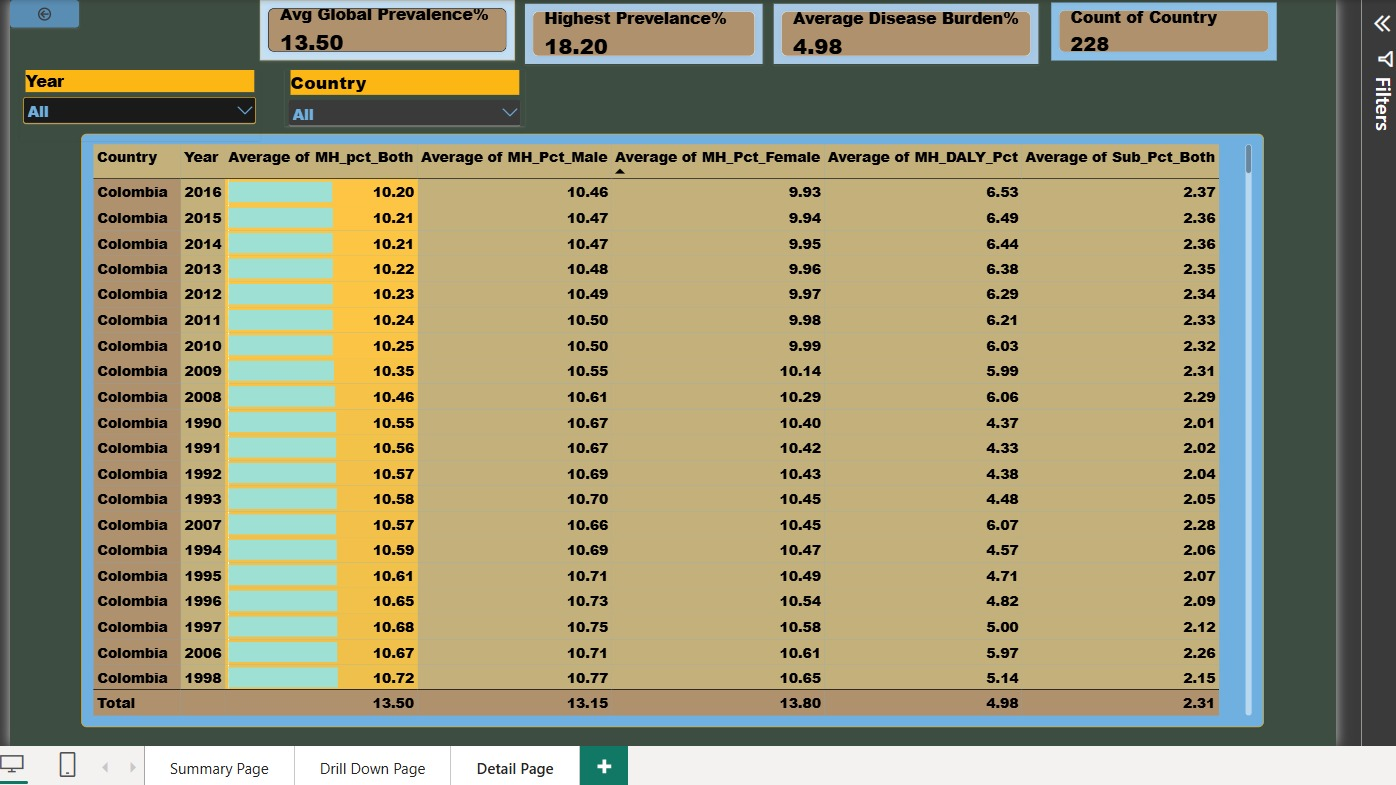

The dashboard page shown, as its layout file describes it:
{"tool":"powerbi","page":{"name":"Detail Page","canvas":[1920,1080],"ordinal":2},"visuals":[{"type":"tableEx","fields":{"Values":["mental_health_disorder_prevalen.Country","mental_health_disorder_prevalen.Year","Avg(mental_health_disorder_prevalen.MH_pct_Both)","Avg(mental_health_disorder_prevalen.MH_Pct_Male)","Avg(mental_health_disorder_prevalen.MH_Pct_Female)","Avg(mental_health_disorder_prevalen.MH_DALY_Pct)","Avg(mental_health_disorder_prevalen.Sub_Pct_Both)"]},"box":[103.2,193.6,1711.9,859.6],"z":0},{"type":"actionButton","box":[0,0,100,40],"z":1},{"type":"slicer","fields":{"Values":["mental_health_disorder_prevalen.Year"]},"box":[14.5,101.3,346.9,102],"z":2},{"type":"slicer","fields":{"Values":["mental_health_disorder_prevalen.Country"]},"box":[398.1,101.3,346.9,81.6],"z":3},{"type":"cardVisual","fields":{"Data":["Count(mental_health_disorder_prevalen.Country)"]},"box":[1508.2,4.1,326.5,83.7],"z":4},{"type":"cardVisual","fields":{"Data":["Avg(mental_health_disorder_prevalen.MH_pct_Both)"]},"box":[361.9,0,369.4,87.8],"z":5},{"type":"cardVisual","fields":{"Data":["Max(mental_health_disorder_prevalen.MH_pct_Both)"]},"box":[745.6,5.4,344.9,87.8],"z":6},{"type":"cardVisual","fields":{"Data":["Avg(mental_health_disorder_prevalen.MH_DALY_Pct)"]},"box":[1105.7,5.4,383.7,87.8],"z":7}]}

Visuals, with their boxes on the page's 1920x1080 design canvas (x1, y1, x2, y2). These are canvas units, not pixel positions in the 1396x785 screenshot, which may show the page scaled, cropped or inside an application window:
tableEx - mental_health_disorder_prevalen.Country x mental_health_disorder_prevalen.Year: 103,194,1815,1053
actionButton: 0,0,100,40
slicer - mental_health_disorder_prevalen.Year: 14,101,361,203
slicer - mental_health_disorder_prevalen.Country: 398,101,745,183
cardVisual - Count(mental_health_disorder_prevalen.Country): 1508,4,1835,88
cardVisual - Avg(mental_health_disorder_prevalen.MH_pct_Both): 362,0,731,88
cardVisual - Max(mental_health_disorder_prevalen.MH_pct_Both): 746,5,1090,93
cardVisual - Avg(mental_health_disorder_prevalen.MH_DALY_Pct): 1106,5,1489,93
